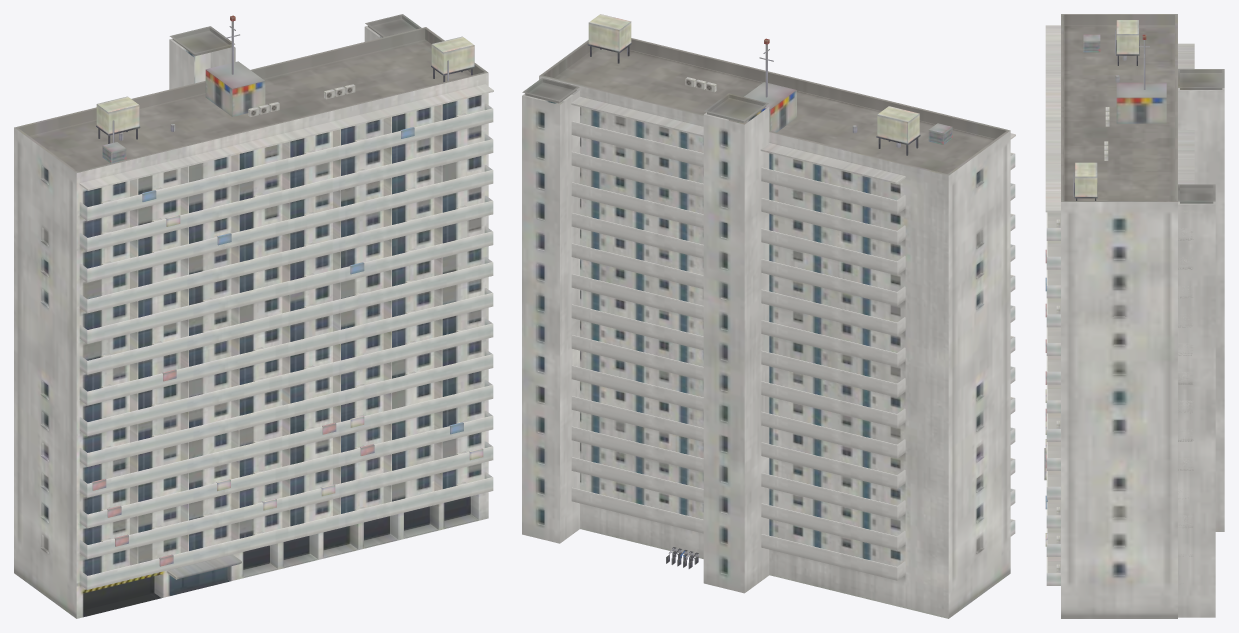
The model's file is tokyo_apartment_d.glb.
3 views of the same model, side by side, from view 1: azimuth 30°, elevation 25°; view 2: azimuth 150°, elevation 25°; view 3: azimuth 270°, elevation 25° (orthographic). The views are drawn at different scales.
Parts seen in each view (by area): view 1: tokyo_apartment_d; view 2: tokyo_apartment_d; view 3: tokyo_apartment_d.
Part boxes in pixels (<box>): tokyo_apartment_d: <box>14,14,493,618</box>; tokyo_apartment_d: <box>522,14,1015,618</box>; tokyo_apartment_d: <box>1044,14,1224,618</box>.
Bounding box in the file's own units: 40.22 × 48.3 × 16.2.
1 material, 1 textured.
